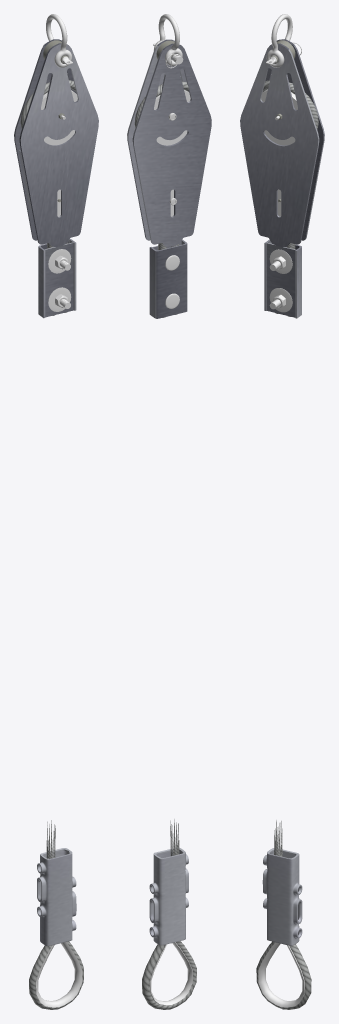
The model's file is Adjustable cable termination.fbx.
The picture shows the model from 3 angles, left to right: view 1: azimuth 30°, elevation 25°; view 2: azimuth 210°, elevation 25°; view 3: azimuth 330°, elevation 25°; orthographic projection.
Parts seen in each view (by area): view 1: Asset_4.001, Asset_4.003; view 2: Asset_4.001, Asset_4.003; view 3: Asset_4.001, Asset_4.003.
Part boxes in pixels (left/top/right/bottom): Asset_4.001: left=14, top=14, right=98, bottom=318; Asset_4.003: left=29, top=820, right=83, bottom=1009; Asset_4.001: left=127, top=14, right=211, bottom=318; Asset_4.003: left=142, top=819, right=196, bottom=1009; Asset_4.001: left=240, top=14, right=324, bottom=318; Asset_4.003: left=256, top=820, right=311, bottom=1009.
Size of the model in its own units: 9.52 by 116 by 4.93.
Materials: 4 (3 with a texture image).
